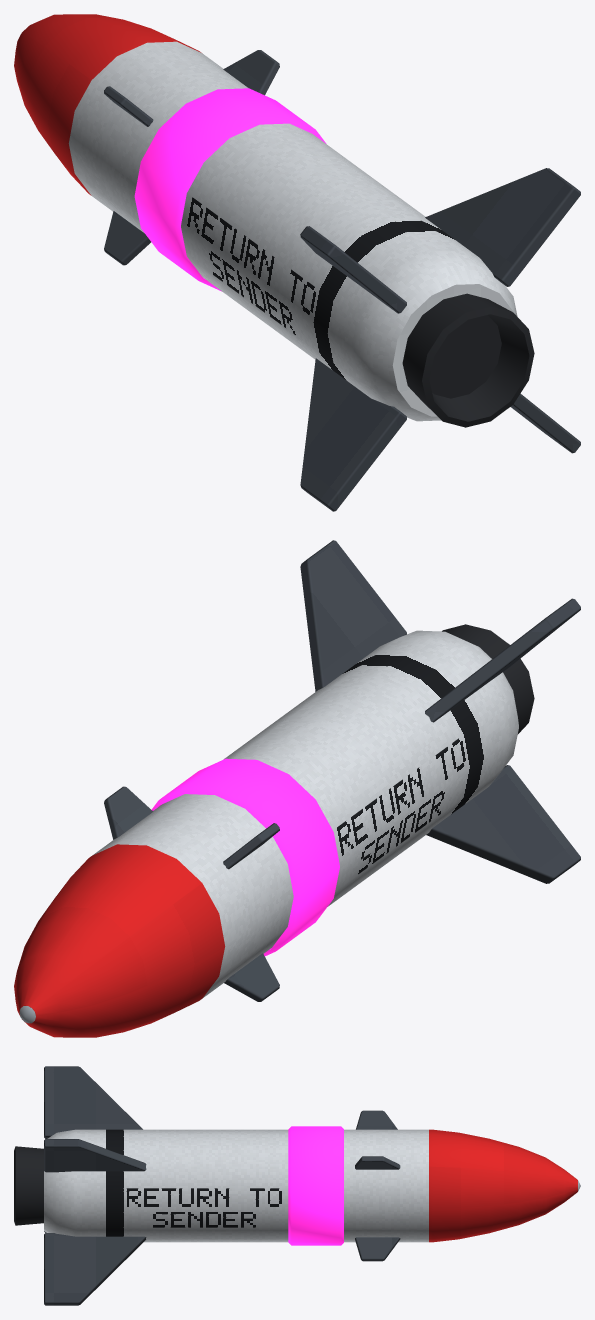
The model's file is pj_rigmissile.glb.
The picture shows the model from 3 angles, top to bottom: view 1: azimuth 30°, elevation 25°; view 2: azimuth 150°, elevation 25°; view 3: azimuth 270°, elevation 25°; orthographic projection. The views are drawn at different scales.
Visible parts, largest first — view 1: ms_missile_ms_body, ms_missile_ms_fin, ms_missile_ms_nozzle, ms_missile_ms_band, ms_missile_ms_nose; view 2: ms_missile_ms_body, ms_missile_ms_nose, ms_missile_ms_fin, ms_missile_ms_band, ms_missile_ms_nozzle; view 3: ms_missile_ms_body, ms_missile_ms_fin, ms_missile_ms_nose, ms_missile_ms_band, ms_missile_ms_nozzle.
Part boxes in pixels (left/top/right/bottom): ms_missile_ms_body: left=68, top=41, right=517, bottom=421; ms_missile_ms_fin: left=104, top=50, right=580, bottom=511; ms_missile_ms_nozzle: left=402, top=293, right=534, bottom=427; ms_missile_ms_band: left=134, top=88, right=326, bottom=291; ms_missile_ms_nose: left=14, top=14, right=201, bottom=195; ms_missile_ms_body: left=92, top=630, right=518, bottom=998; ms_missile_ms_nose: left=14, top=844, right=225, bottom=1037; ms_missile_ms_fin: left=104, top=540, right=580, bottom=1001; ms_missile_ms_band: left=151, top=758, right=339, bottom=956; ms_missile_ms_nozzle: left=442, top=624, right=534, bottom=734; ms_missile_ms_body: left=44, top=1129, right=428, bottom=1242; ms_missile_ms_fin: left=44, top=1066, right=400, bottom=1305; ms_missile_ms_nose: left=429, top=1129, right=577, bottom=1242; ms_missile_ms_band: left=288, top=1126, right=343, bottom=1245; ms_missile_ms_nozzle: left=14, top=1146, right=43, bottom=1225.
Bounding box in the file's own units: 0.2432 × 0.2432 × 0.754.
6 materials, 3 textured.
